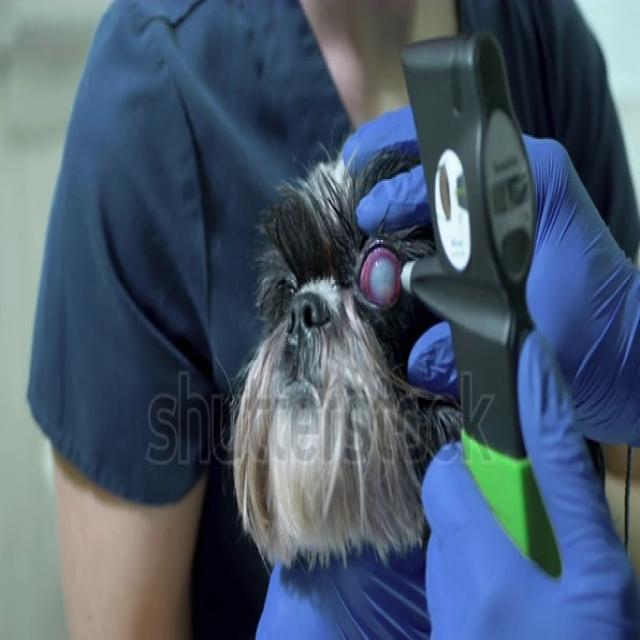injured-animals: (234, 118, 626, 640)
